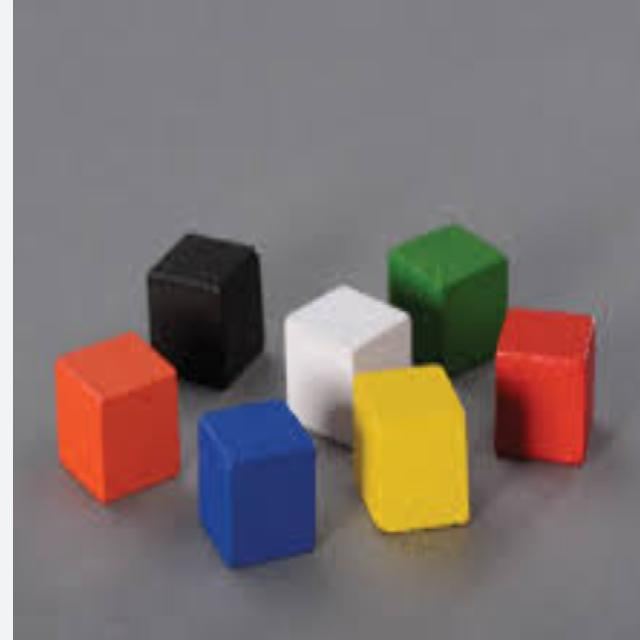bluecube: (196, 399, 316, 570)
green cube: (386, 215, 512, 376)
red cube: (494, 306, 597, 470)
